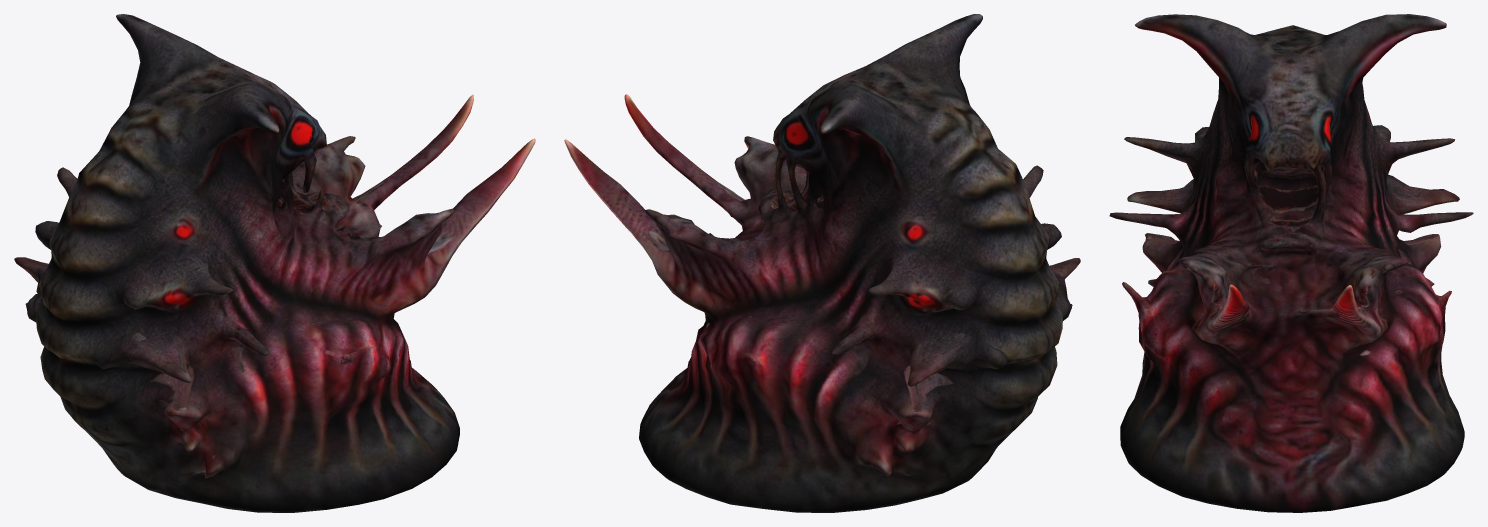
Rendered from f17e072a2183_0cc7cfab57c8_Terrifying_and_Horr.glb.
3 views of the same model, side by side, from view 1: azimuth 30°, elevation 25°; view 2: azimuth 150°, elevation 25°; view 3: azimuth 270°, elevation 25° (orthographic). The views are drawn at different scales.
Visible parts, largest first — view 1: mesh; view 2: mesh; view 3: mesh.
Part boxes in pixels (x1,y1,x2,y2): mesh: (14,14,535,512); mesh: (564,14,1080,512); mesh: (1109,14,1473,512).
Bounding box in the file's own units: 0.9936 × 0.8307 × 0.7012.
Materials: 1 (1 with a texture image).
